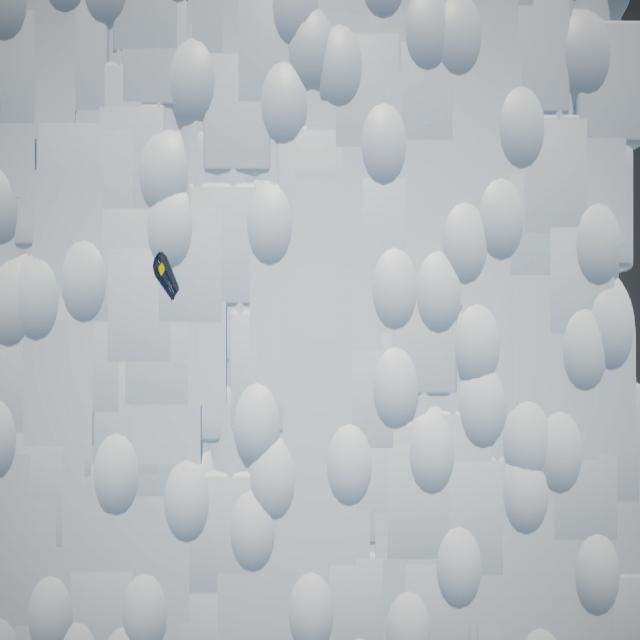handle_folk: (154, 252, 180, 302)
